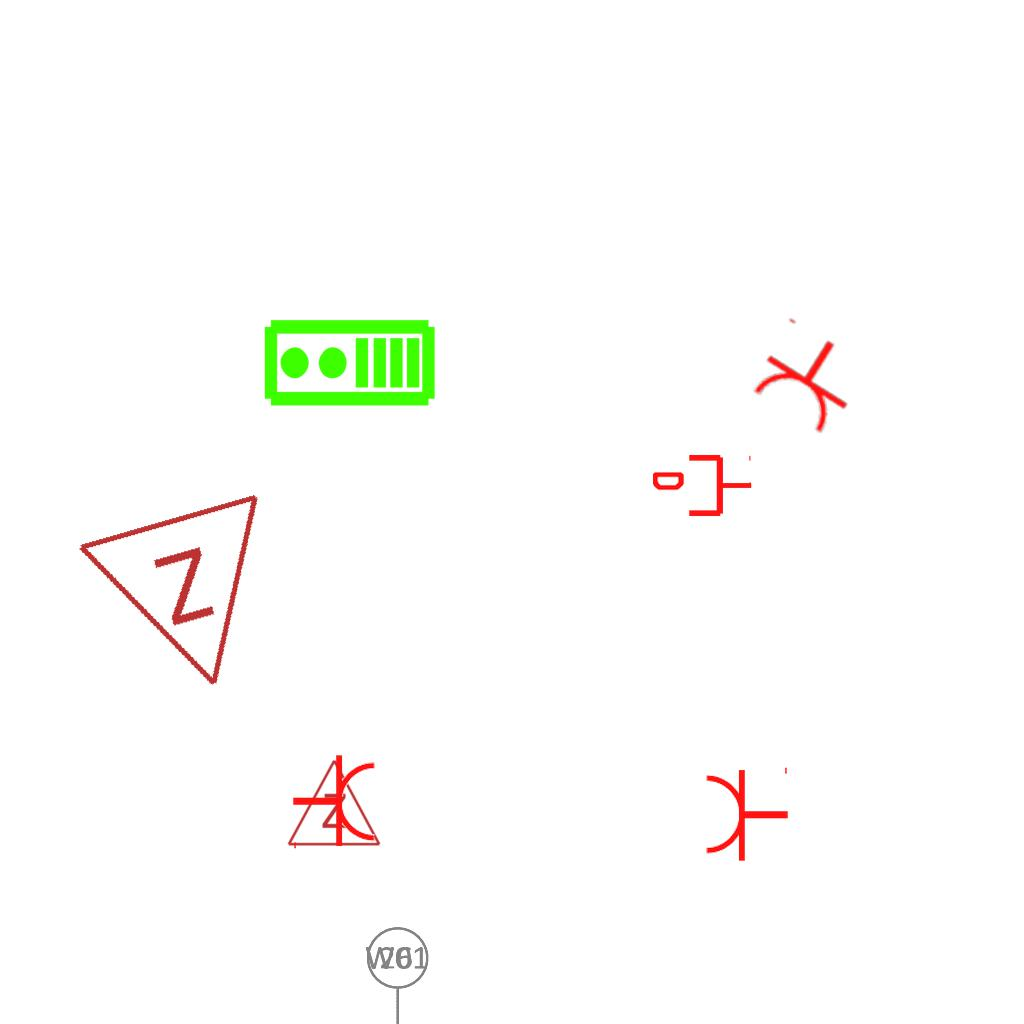Datenanschluss_einfach: (653, 451, 753, 520)
Gegensprechanlage_mit_Video: (261, 317, 437, 412)
Schukosteckdose_einfach: (742, 313, 873, 441), (703, 763, 790, 863), (291, 753, 378, 853)
Zimmersignalleuchte: (71, 477, 315, 725), (284, 753, 382, 853)
